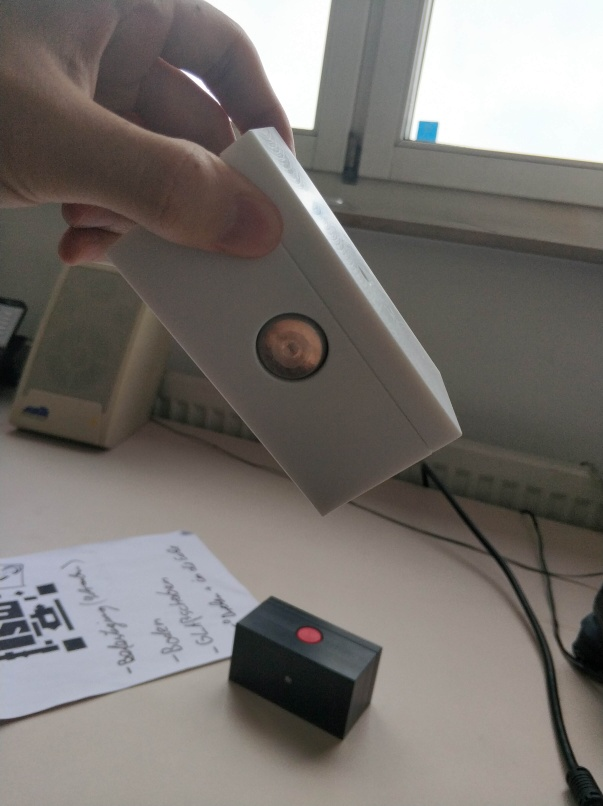black+black+red: (225, 595, 387, 742)
white+white+silver: (105, 122, 463, 520)
